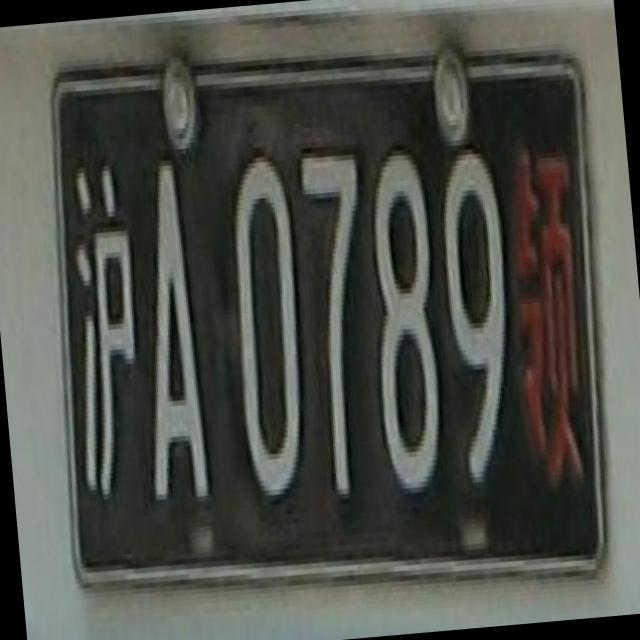LicensePlate: (27, 16, 625, 594)
